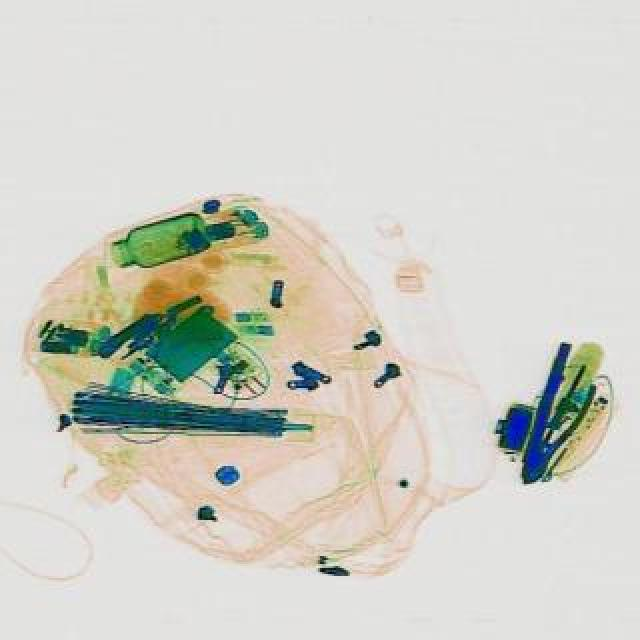wrench: (502, 366, 602, 490)
